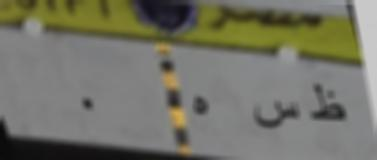0: (71, 89, 104, 117)
Thaa: (304, 80, 350, 129)
haa: (186, 86, 215, 127)
seen: (250, 88, 302, 140)
